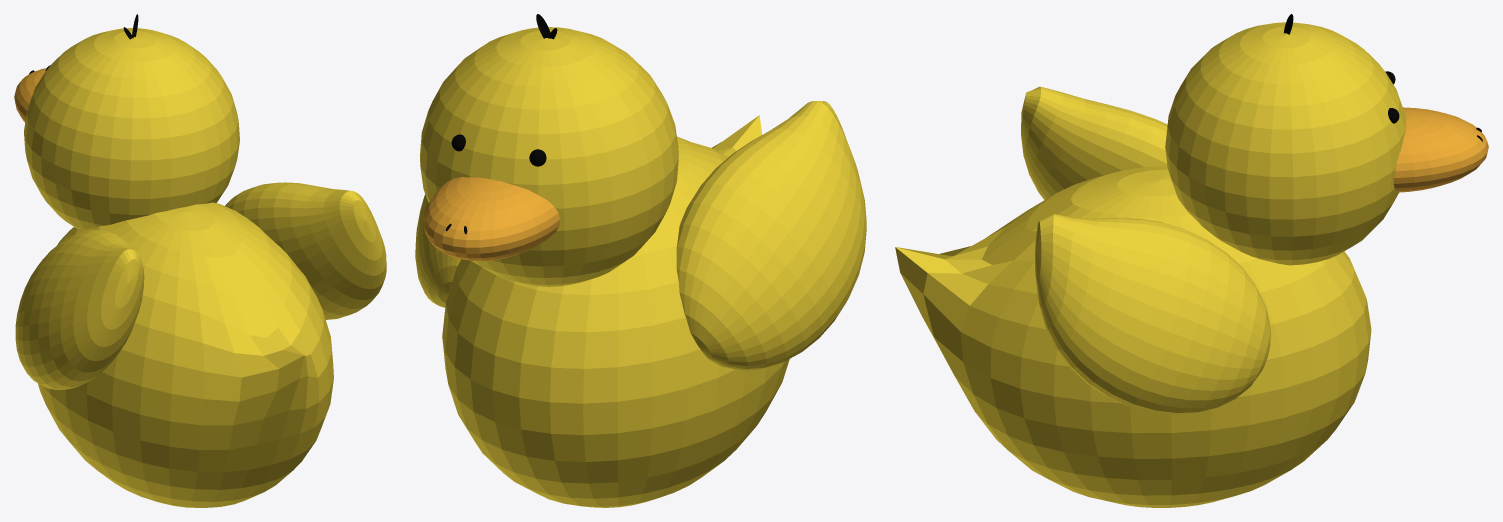
File: duck.gltf
3 renders of one model, left to right at view 1: azimuth 30°, elevation 25°; view 2: azimuth 150°, elevation 25°; view 3: azimuth 270°, elevation 25°, orthographic. The views are drawn at different scales.
Visible parts, largest first — view 1: Sphere.001; view 2: Sphere.001; view 3: Sphere.001.
Part boxes in pixels (x1,y1,x2,y2): Sphere.001: (14,14,386,507); Sphere.001: (415,14,866,507); Sphere.001: (895,14,1488,507).
Size of the model in its own units: 0.7651 by 0.9444 by 1.04.
